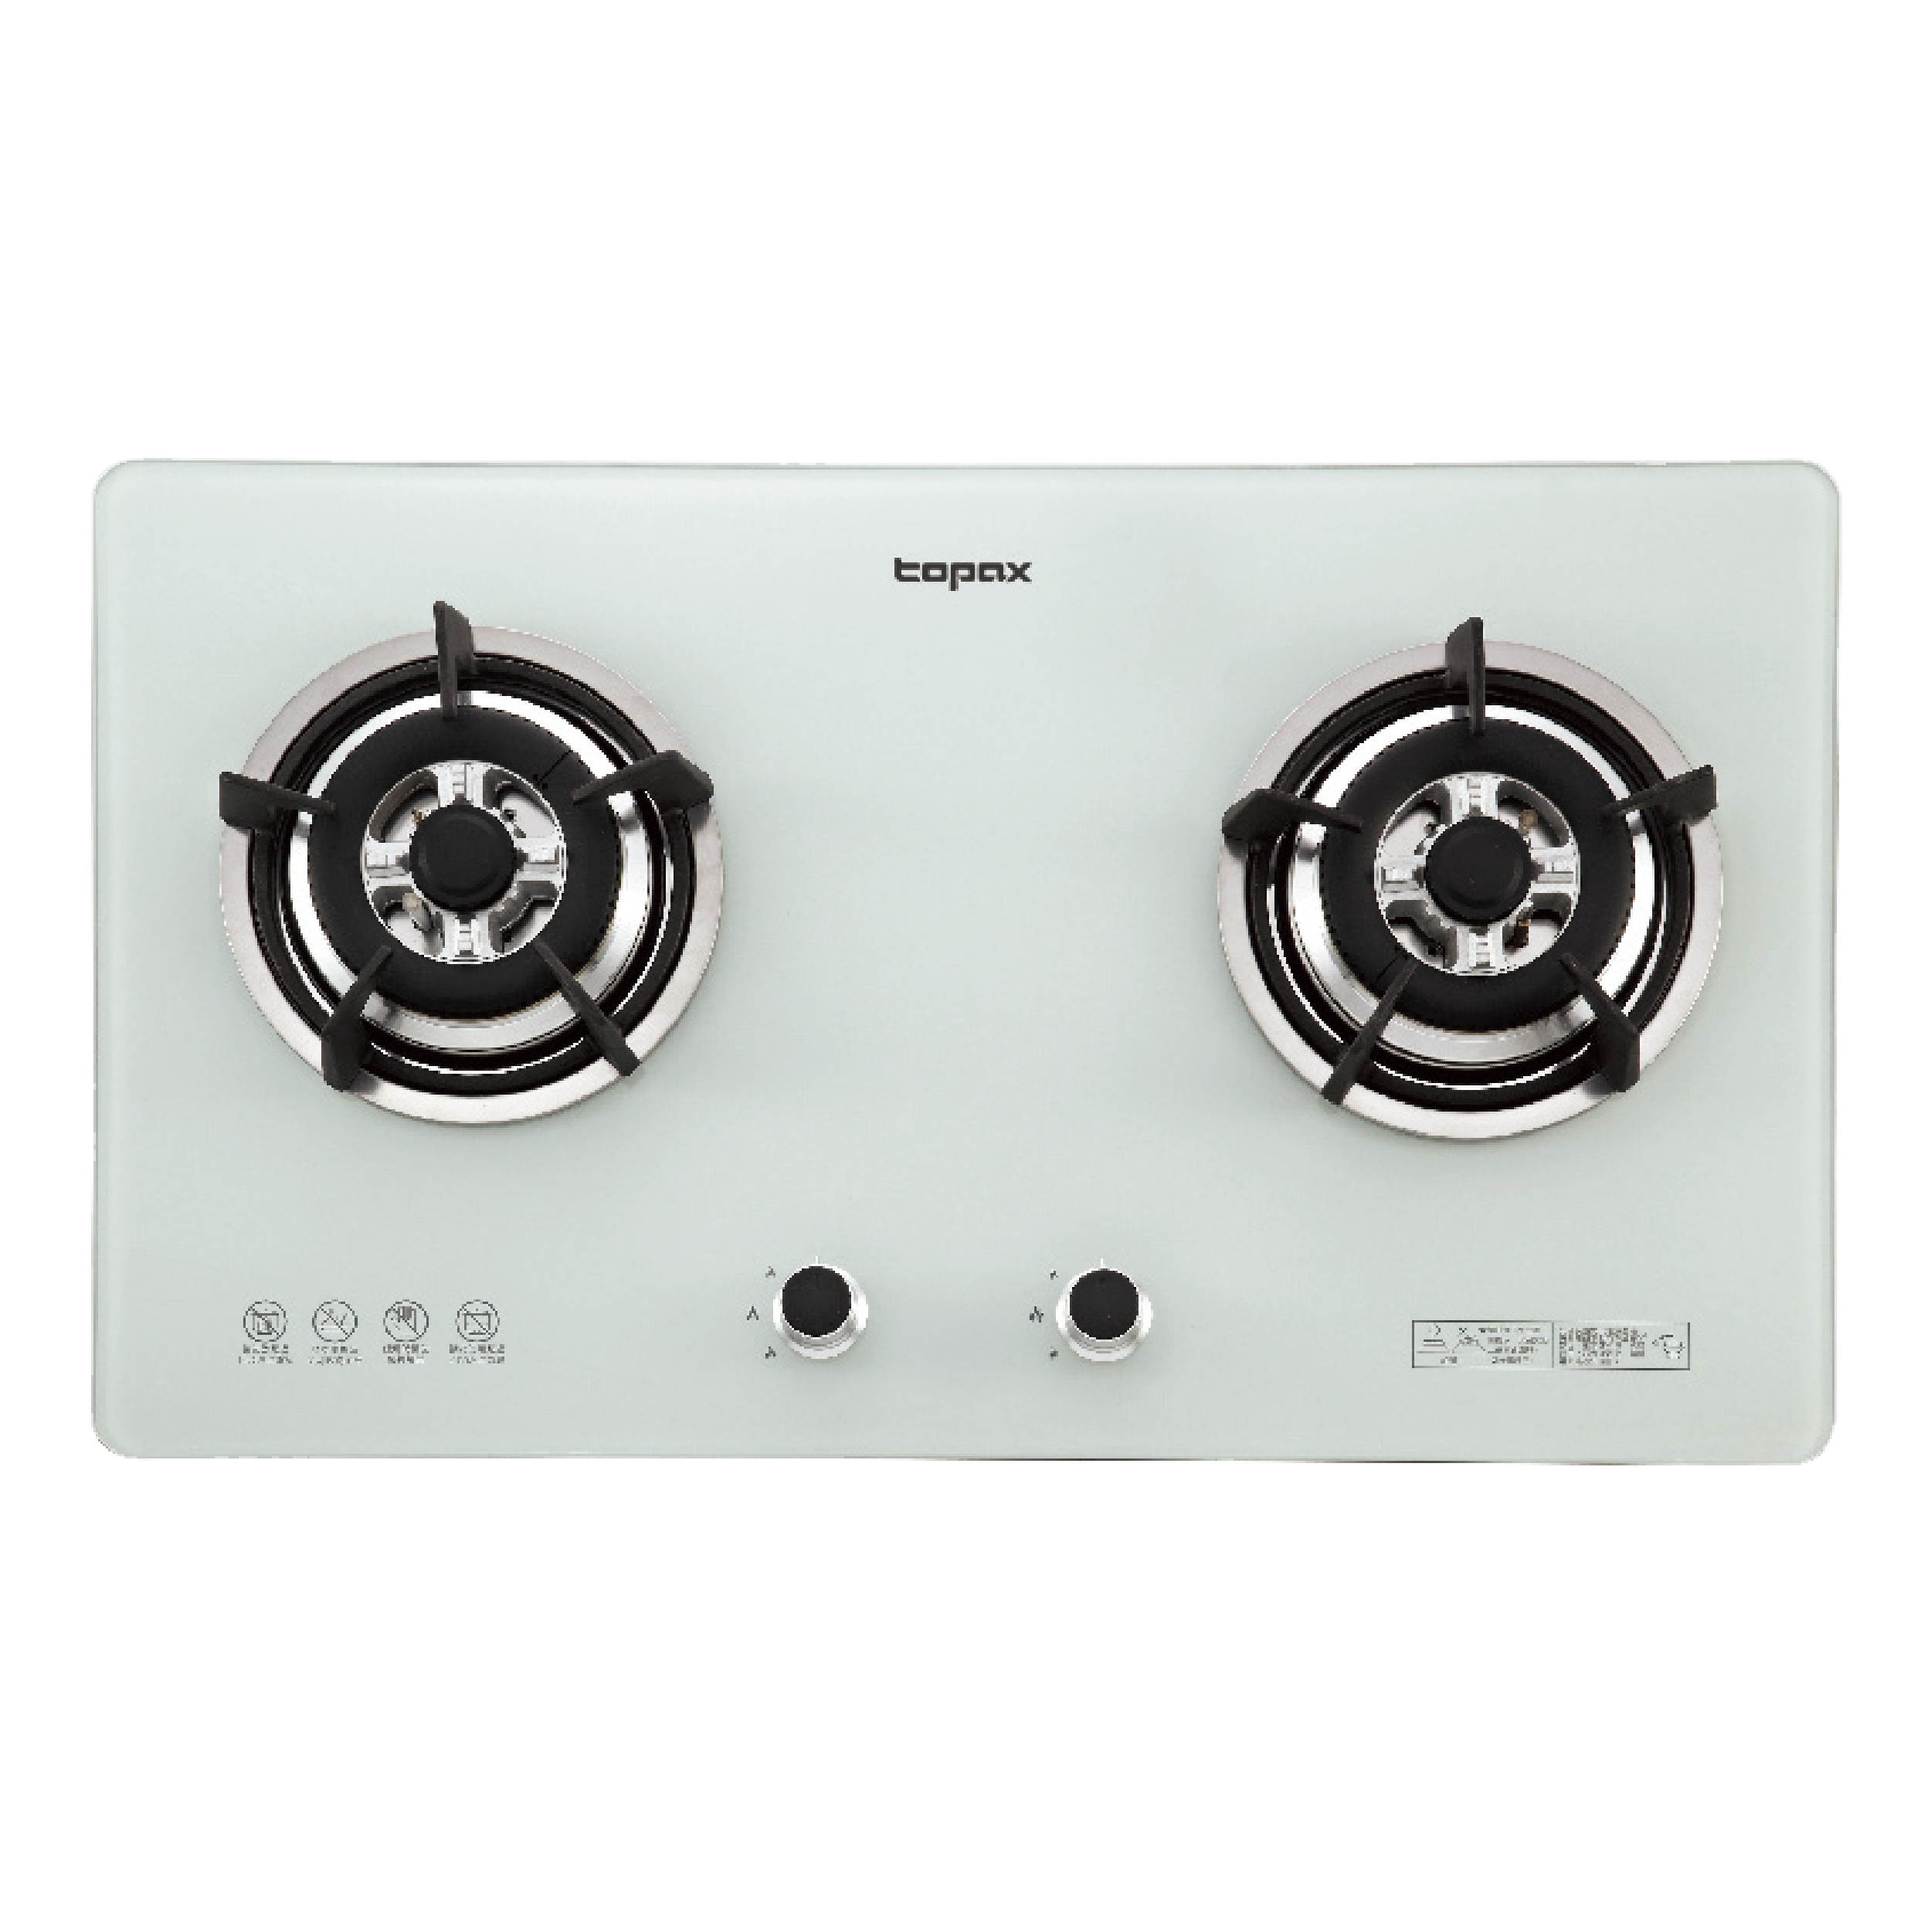gasoven: (67, 444, 1855, 1484)
